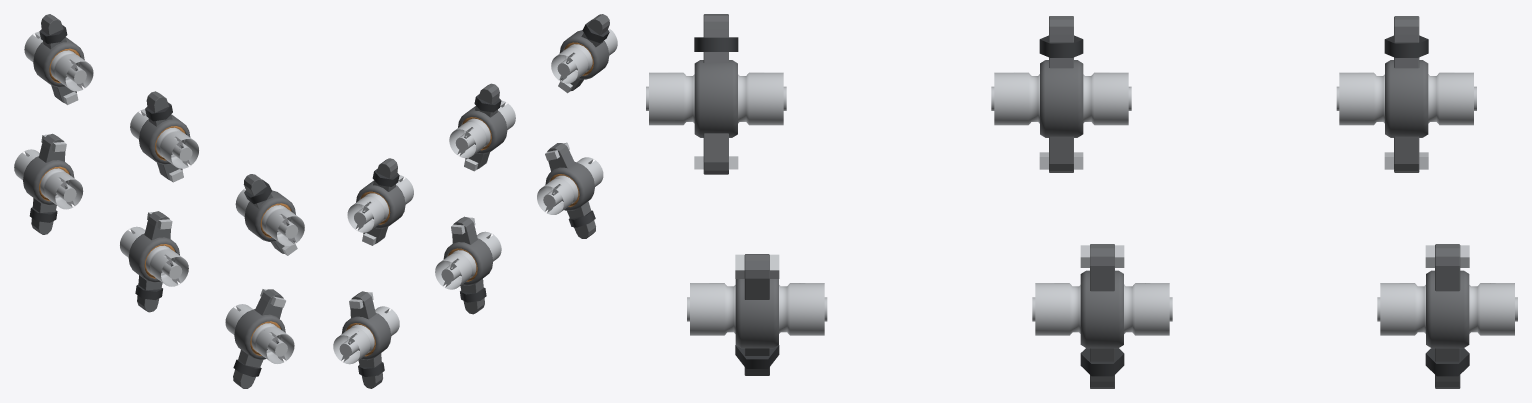
The model's file is rockers-left.glb.
3 views of the same model, side by side, from view 1: azimuth 30°, elevation 25°; view 2: azimuth 150°, elevation 25°; view 3: azimuth 270°, elevation 25° (orthographic). The views are drawn at different scales.
Visible parts, largest first — view 1: rockers-left:polishedSteel, rockers-left:forgedSteel, rockers-left:darkSteel, rockers-left:bronze; view 2: rockers-left:polishedSteel, rockers-left:forgedSteel, rockers-left:darkSteel, rockers-left:bronze; view 3: rockers-left:polishedSteel, rockers-left:forgedSteel, rockers-left:darkSteel.
Boxes of the visible parts, bbox=[...] form: rockers-left:polishedSteel: bbox=[14, 31, 304, 363]; rockers-left:forgedSteel: bbox=[23, 14, 295, 388]; rockers-left:darkSteel: bbox=[29, 25, 289, 376]; rockers-left:bronze: bbox=[39, 48, 291, 355]; rockers-left:polishedSteel: bbox=[333, 28, 617, 364]; rockers-left:forgedSteel: bbox=[341, 14, 609, 388]; rockers-left:darkSteel: bbox=[348, 20, 609, 376]; rockers-left:bronze: bbox=[346, 42, 593, 356]; rockers-left:polishedSteel: bbox=[646, 72, 1517, 335]; rockers-left:forgedSteel: bbox=[694, 14, 1469, 388]; rockers-left:darkSteel: bbox=[694, 35, 1469, 376].
Bounding box in the file's own units: 29.6 × 138 × 298.
